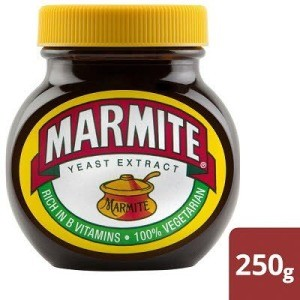yeast spread_brain food: (9, 79, 226, 270)
